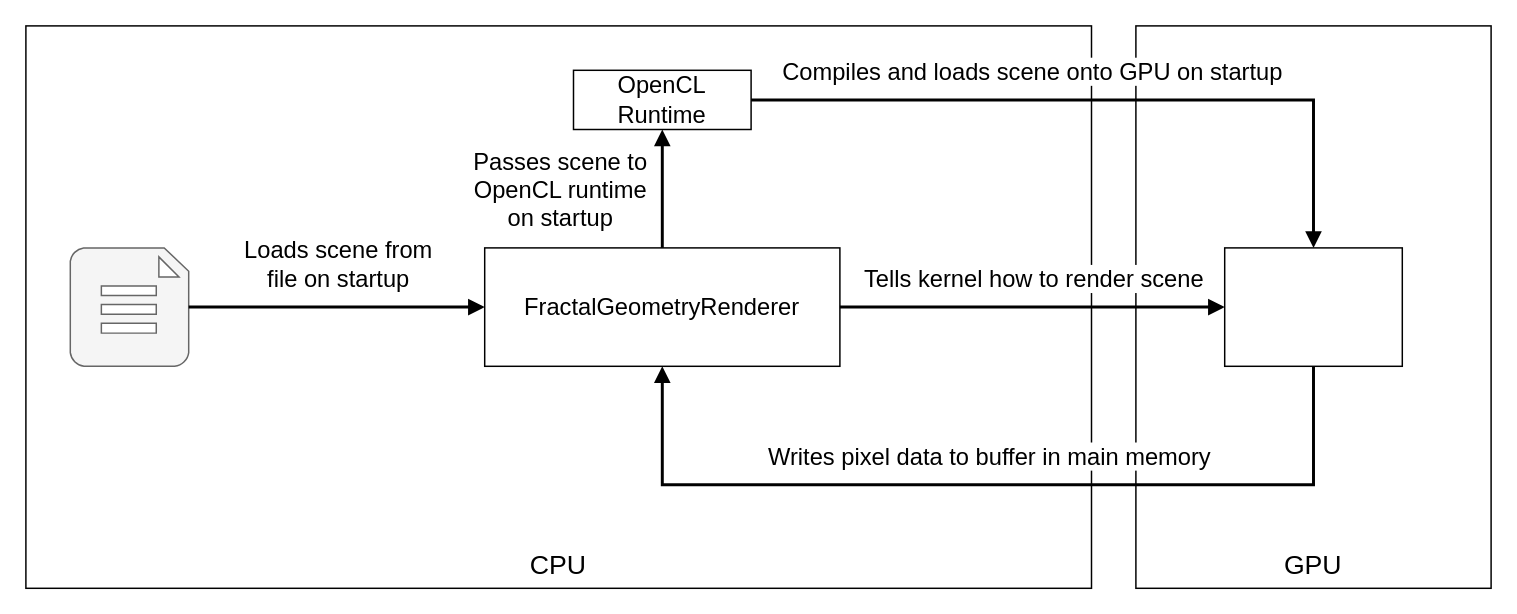
Some shapes in this 1517 by 614 pixel diagram are drawn without their labels. Here are the shapes that lost their labels. From the top down, the centre of each, then its label:
At (129,306): "Scene Kernel File".
At (1312,306): "Kernel".
